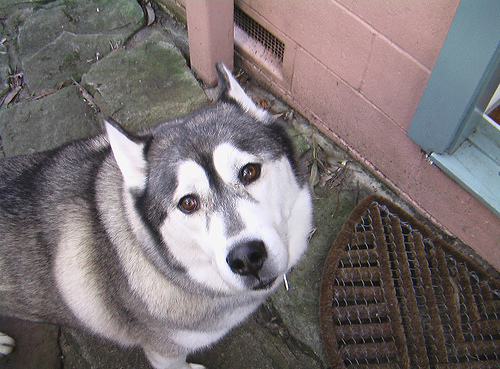dog: (0, 58, 319, 368)
